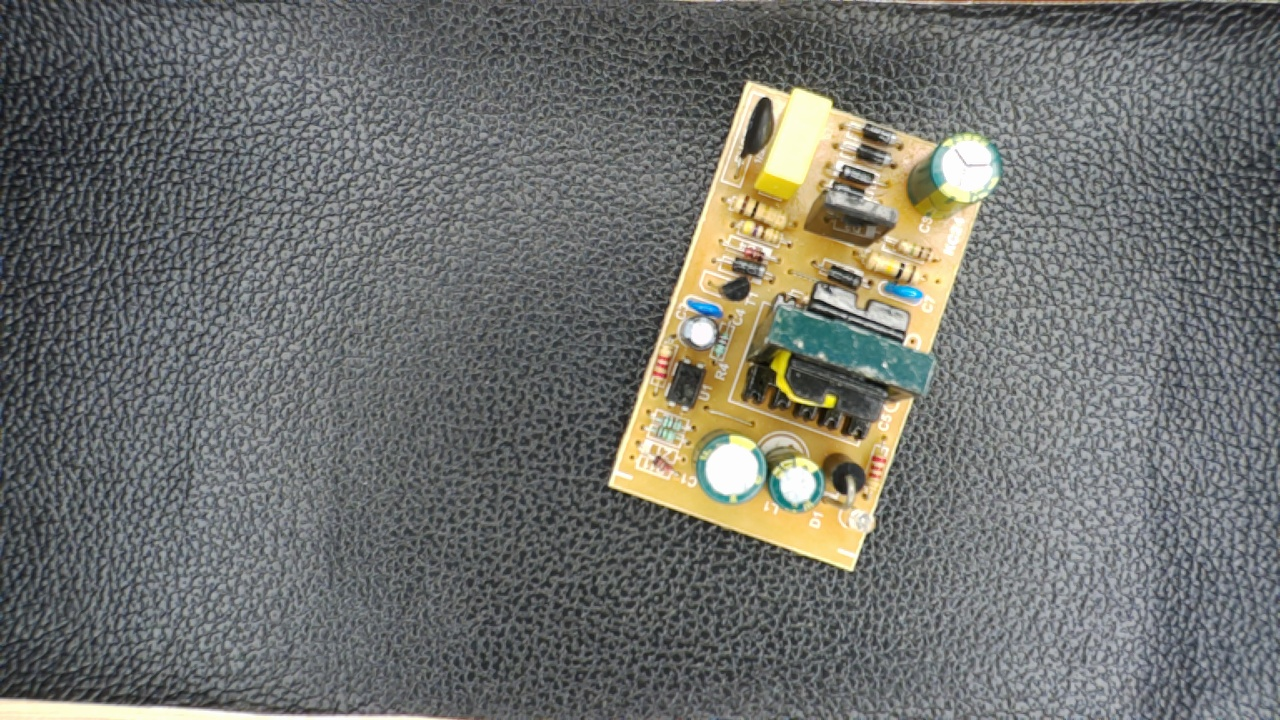fuse: (734, 89, 776, 174)
hv_capacitor: (909, 131, 1004, 221)
optocoupler: (662, 351, 711, 413)
